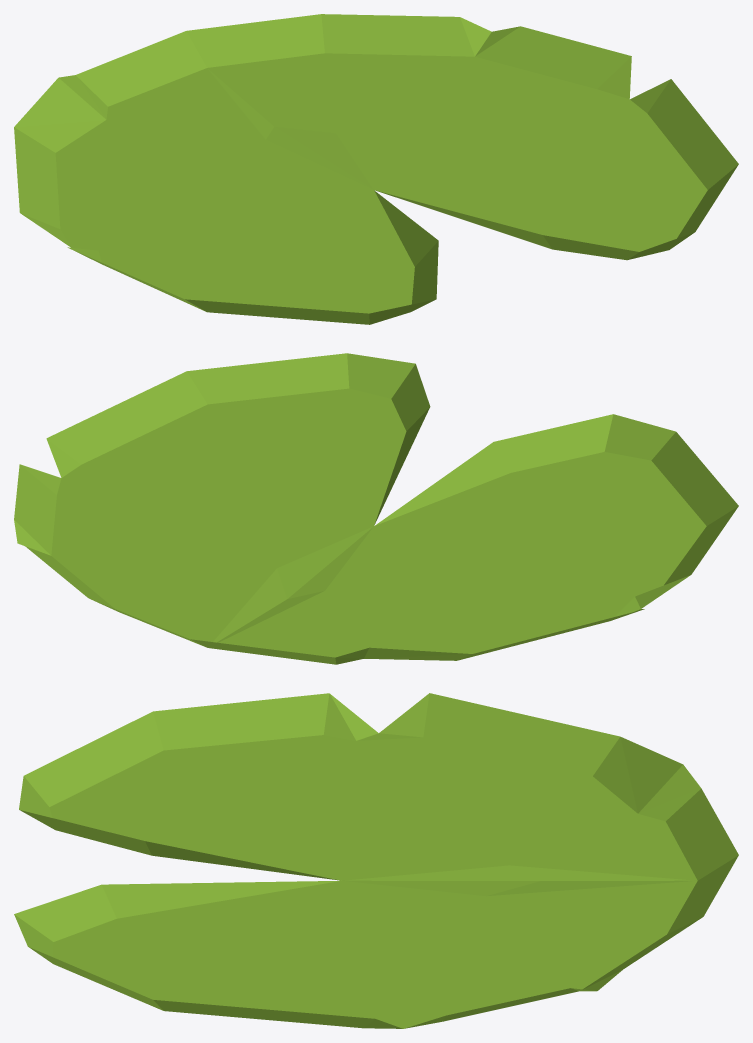
Rendered from SM_Waterlily_Single_Mature_B.fbx.
The picture shows the model from 3 angles, top to bottom: view 1: azimuth 30°, elevation 25°; view 2: azimuth 150°, elevation 25°; view 3: azimuth 270°, elevation 25°; orthographic projection. The views are drawn at different scales.
Visible parts, largest first — view 1: waterlily-single-mature-b; view 2: waterlily-single-mature-b; view 3: waterlily-single-mature-b.
Part boxes in pixels (left/top/right/bottom): waterlily-single-mature-b: left=14, top=14, right=738, bottom=324; waterlily-single-mature-b: left=14, top=353, right=738, bottom=664; waterlily-single-mature-b: left=14, top=693, right=738, bottom=1028.
Bounding box in the file's own units: 0.4175 × 0.0233 × 0.3927.
